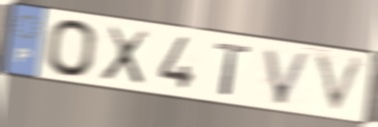4: (156, 35, 196, 93)
O: (44, 17, 100, 80)
T: (213, 40, 254, 99)
V: (311, 49, 371, 119), (261, 45, 315, 108)
X: (98, 23, 153, 88)
